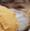with_mask: (2, 1, 30, 31)
